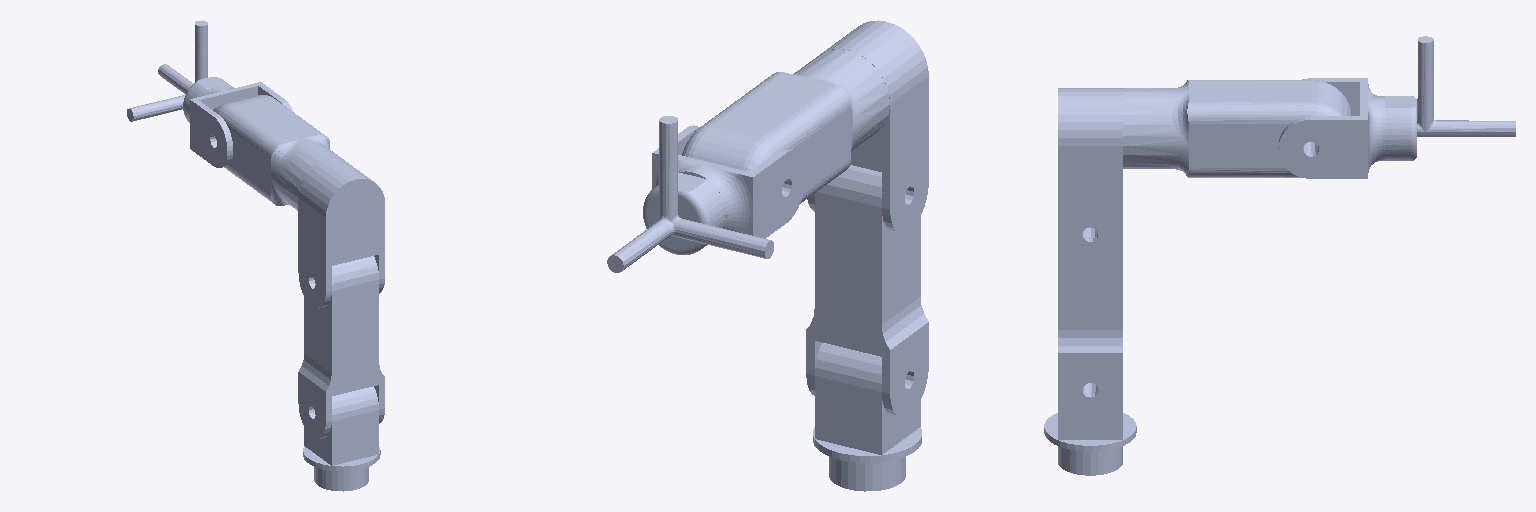
URDF robot description (Assem1):
<?xml version="1.0" encoding="utf-8"?>
<!-- This URDF was automatically created by SolidWorks to URDF Exporter! Originally created by [author] ([email redacted]) 
     Commit Version: 1.6.0-4-g7f85cfe  Build Version: 1.6.7995.38578
     For more information, please see http://wiki.ros.org/sw_urdf_exporter -->
<robot
  name="Assem1">
  <link
    name="base_link">
    <inertial>
      <origin
        xyz="4.24779972951501E-20 0.0149477232172278 -5.80532629700385E-19"
        rpy="0 0 0" />
      <mass
        value="0.233677856365645" />
      <inertia
        ixx="0.000165802946683648"
        ixy="-5.86095130205183E-22"
        ixz="4.05835488033829E-21"
        iyy="0.000296329731641364"
        iyz="-1.803657355605E-21"
        izz="0.000165802946683648" />
    </inertial>
    <visual>
      <origin
        xyz="0 0 0"
        rpy="0 0 0" />
      <geometry>
        <mesh
          filename="package://Assem1/meshes/base_link.STL" />
      </geometry>
      <material
        name="">
        <color
          rgba="0.792156862745098 0.819607843137255 0.933333333333333 1" />
      </material>
    </visual>
    <collision>
      <origin
        xyz="0 0 0"
        rpy="0 0 0" />
      <geometry>
        <mesh
          filename="package://Assem1/meshes/base_link.STL" />
      </geometry>
    </collision>
  </link>
  <link
    name="L1">
    <inertial>
      <origin
        xyz="-1.88493021263252E-17 1.85680272930851E-20 0.00927432460875134"
        rpy="0 0 0" />
      <mass
        value="0.0143471232869168" />
      <inertia
        ixx="2.12177320624765E-06"
        ixy="-8.46804832760958E-23"
        ixz="1.05617618024192E-22"
        iyy="2.10806964454254E-06"
        iyz="1.56118316145004E-22"
        izz="9.32299348577374E-07" />
    </inertial>
    <visual>
      <origin
        xyz="0 0 0"
        rpy="0 0 0" />
      <geometry>
        <mesh
          filename="package://Assem1/meshes/L1.STL" />
      </geometry>
      <material
        name="">
        <color
          rgba="0.792156862745098 0.819607843137255 0.933333333333333 1" />
      </material>
    </visual>
    <collision>
      <origin
        xyz="0 0 0"
        rpy="0 0 0" />
      <geometry>
        <mesh
          filename="package://Assem1/meshes/L1.STL" />
      </geometry>
    </collision>
  </link>
  <joint
    name="J1"
    type="revolute">
    <origin
      xyz="0 0 0.03"
      rpy="0 0 1.5708" />
    <parent
      link="base_link" />
    <child
      link="L1" />
    <axis
      xyz="0 0 1" />
    <limit
      lower="-1.57"
      upper="1.57"
      effort="0"
      velocity="0" />
  </joint>
  <link
    name="L2">
    <inertial>
      <origin
        xyz="0.0318036090643631 1.74310721496365E-17 -3.6426329646784E-17"
        rpy="0 0 0" />
      <mass
        value="0.0218942430386524" />
      <inertia
        ixx="1.64119620067033E-06"
        ixy="3.37382801078257E-22"
        ixz="1.89121142663092E-22"
        iyy="7.12449078763676E-06"
        iyz="-5.9425583879735E-23"
        izz="6.90865188528047E-06" />
    </inertial>
    <visual>
      <origin
        xyz="0 0 0"
        rpy="0 0 0" />
      <geometry>
        <mesh
          filename="package://Assem1/meshes/L2.STL" />
      </geometry>
      <material
        name="">
        <color
          rgba="0.792156862745098 0.819607843137255 0.933333333333333 1" />
      </material>
    </visual>
    <collision>
      <origin
        xyz="0 0 0"
        rpy="0 0 0" />
      <geometry>
        <mesh
          filename="package://Assem1/meshes/L2.STL" />
      </geometry>
    </collision>
  </link>
  <joint
    name="J2"
    type="revolute">
    <origin
      xyz="0 0 0.02"
      rpy="1.5708 -1.5708 0" />
    <parent
      link="L1" />
    <child
      link="L2" />
    <axis
      xyz="0 0 1" />
    <limit
      lower="-1.57"
      upper="1.57"
      effort="0"
      velocity="0" />
  </joint>
  <link
    name="L3">
    <inertial>
      <origin
        xyz="0.0224145914482569 1.20395897375245E-17 4.20026750087272E-17"
        rpy="0 0 0" />
      <mass
        value="0.0162032628325081" />
      <inertia
        ixx="1.46306818301817E-06"
        ixy="8.43669712688009E-23"
        ixz="3.54245596260434E-22"
        iyy="2.98985840571389E-06"
        iyz="1.69873121080214E-22"
        izz="2.60015596401038E-06" />
    </inertial>
    <visual>
      <origin
        xyz="0 0 0"
        rpy="0 0 0" />
      <geometry>
        <mesh
          filename="package://Assem1/meshes/L3.STL" />
      </geometry>
      <material
        name="">
        <color
          rgba="0.792156862745098 0.819607843137255 0.933333333333333 1" />
      </material>
    </visual>
    <collision>
      <origin
        xyz="0 0 0"
        rpy="0 0 0" />
      <geometry>
        <mesh
          filename="package://Assem1/meshes/L3.STL" />
      </geometry>
    </collision>
  </link>
  <joint
    name="J3"
    type="revolute">
    <origin
      xyz="0.0525 0 0"
      rpy="0 0 0" />
    <parent
      link="L2" />
    <child
      link="L3" />
    <axis
      xyz="0 0 -1" />
    <limit
      lower="-1.57"
      upper="1.57"
      effort="0"
      velocity="0" />
  </joint>
  <link
    name="L4">
    <inertial>
      <origin
        xyz="-5.3508081299114E-10 -3.71190641997466E-09 -0.0441504737134913"
        rpy="0 0 0" />
      <mass
        value="0.038253532624055" />
      <inertia
        ixx="1.62262504509542E-05"
        ixy="-2.52853163446232E-13"
        ixz="4.70788494001309E-13"
        iyy="1.61954742875068E-05"
        iyz="2.37727514451792E-12"
        izz="3.48393384673886E-06" />
    </inertial>
    <visual>
      <origin
        xyz="0 0 0"
        rpy="0 0 0" />
      <geometry>
        <mesh
          filename="package://Assem1/meshes/L4.STL" />
      </geometry>
      <material
        name="">
        <color
          rgba="0.792156862745098 0.819607843137255 0.933333333333333 1" />
      </material>
    </visual>
    <collision>
      <origin
        xyz="0 0 0"
        rpy="0 0 0" />
      <geometry>
        <mesh
          filename="package://Assem1/meshes/L4.STL" />
      </geometry>
    </collision>
  </link>
  <joint
    name="J4"
    type="revolute">
    <origin
      xyz="0.03 0 0"
      rpy="-1.5708 0 0" />
    <parent
      link="L3" />
    <child
      link="L4" />
    <axis
      xyz="0 0 -1" />
    <limit
      lower="-1.57"
      upper="1.57"
      effort="0"
      velocity="0" />
  </joint>
  <link
    name="L5">
    <inertial>
      <origin
        xyz="5.91161314345001E-10 2.34658688010525E-09 -0.0102809414774184"
        rpy="0 0 0" />
      <mass
        value="0.00534779938775355" />
      <inertia
        ixx="9.78910055781953E-07"
        ixy="1.23211470982036E-12"
        ixz="-8.7302710626393E-14"
        iyy="5.57875026158984E-07"
        iyz="-1.09594224583031E-13"
        izz="7.54089575589643E-07" />
    </inertial>
    <visual>
      <origin
        xyz="0 0 0"
        rpy="0 0 0" />
      <geometry>
        <mesh
          filename="package://Assem1/meshes/L5.STL" />
      </geometry>
      <material
        name="">
        <color
          rgba="0.792156862745098 0.819607843137255 0.933333333333333 1" />
      </material>
    </visual>
    <collision>
      <origin
        xyz="0 0 0"
        rpy="0 0 0" />
      <geometry>
        <mesh
          filename="package://Assem1/meshes/L5.STL" />
      </geometry>
    </collision>
  </link>
  <joint
    name="J5"
    type="revolute">
    <origin
      xyz="0 0 -0.09"
      rpy="3.1416 0 0" />
    <parent
      link="L4" />
    <child
      link="L5" />
    <axis
      xyz="0 0 -1" />
    <limit
      lower="-1.57"
      upper="1.57"
      effort="0"
      velocity="0" />
  </joint>
  <link
    name="EE">
    <inertial>
      <origin
        xyz="0.00173394678374883 -0.00183873327321426 -0.00101495740612378"
        rpy="0 0 0" />
      <mass
        value="0.00477918020074795" />
      <inertia
        ixx="3.4992440183678E-07"
        ixy="-4.49392000009137E-08"
        ixz="3.66988266963346E-08"
        iyy="3.45333816647997E-07"
        iyz="-3.67566916952976E-08"
        izz="4.14729683205602E-07" />
    </inertial>
    <visual>
      <origin
        xyz="0 0 0"
        rpy="0 0 0" />
      <geometry>
        <mesh
          filename="package://Assem1/meshes/EE.STL" />
      </geometry>
      <material
        name="">
        <color
          rgba="0.792156862745098 0.819607843137255 0.933333333333333 1" />
      </material>
    </visual>
    <collision>
      <origin
        xyz="0 0 0"
        rpy="0 0 0" />
      <geometry>
        <mesh
          filename="package://Assem1/meshes/EE.STL" />
      </geometry>
    </collision>
  </link>
  <joint
    name="EE"
    type="fixed">
    <origin
      xyz="0 0 0.01"
      rpy="0 0 0" />
    <parent
      link="L5" />
    <child
      link="EE" />
    <axis
      xyz="0 0 0" />
    <limit
      lower="-1.57"
      upper="1.57"
      effort="0"
      velocity="0" />
  </joint>
</robot>

--- Render facts (derived) ---
3 views of the same robot in one strip: view 1: azimuth 30°, elevation 25°; view 2: azimuth 150°, elevation 25°; view 3: azimuth 270°, elevation 25° (orthographic).
Robot: Assem1 — 7 links, 6 joints (5 revolute, 1 fixed); root link base_link; default pose: every joint at zero.
Links seen in each view (by area): view 1: L2, L3, L4, L1, L5, EE; view 2: L2, L4, L1, L3, EE, L5; view 3: L4, L3, L2, L5, EE, L1.
Boxes of the visible links, <box> form: L2: <box>298,256,384,438</box>; L3: <box>298,159,384,308</box>; L4: <box>213,95,360,216</box>; L1: <box>303,386,380,491</box>; L5: <box>190,82,293,167</box>; EE: <box>127,20,233,122</box>; L2: <box>806,165,928,417</box>; L4: <box>682,49,889,203</box>; L1: <box>813,343,921,491</box>; L3: <box>807,20,928,232</box>; EE: <box>607,116,773,272</box>; L5: <box>652,125,805,238</box>; L4: <box>1123,80,1351,177</box>; L3: <box>1058,88,1122,263</box>; L2: <box>1058,227,1122,419</box>; L5: <box>1278,78,1384,178</box>; EE: <box>1385,36,1515,160</box>; L1: <box>1044,383,1136,475</box>.
Bounding box of the posed robot: 0.045 × 0.1441 × 0.1425 m (x, y, z).
6 mesh visuals loaded from 7 distinct referenced files (6 binary STL); not drawn: 1 (reference not matched to a file when rendering).
